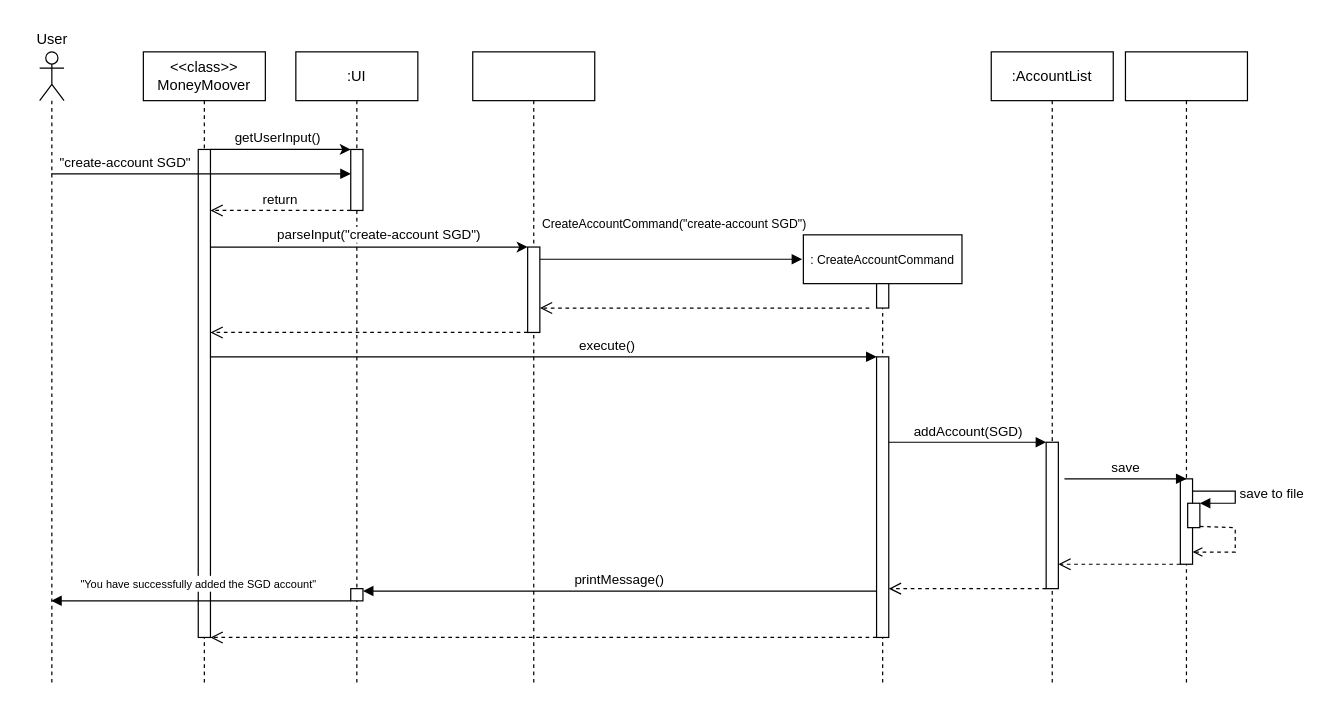
This 1325x708 diagram has some shape labels left out. The shapes that lost their labels are listed below. From the top down, each one's box as (x1, y1, x2, y2) in pixels, then its label:
(472, 51, 595, 686): <<class>> Parser
(1124, 51, 1247, 686): :Storage
